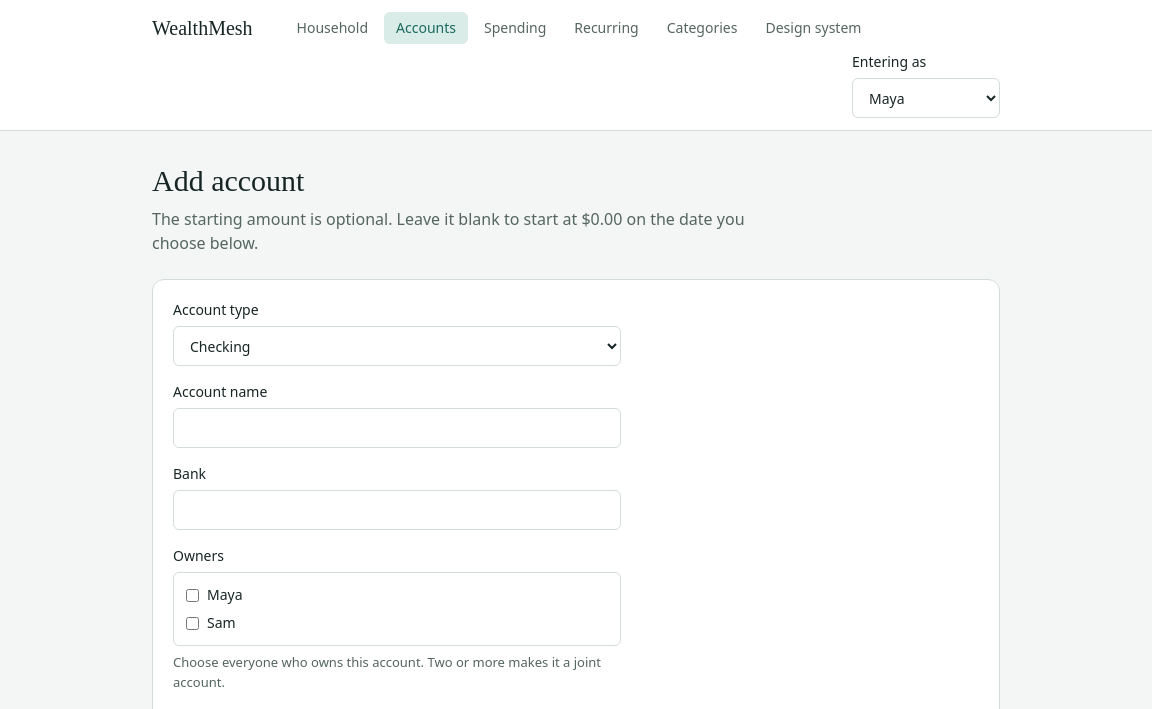
owner choices on the four investment types › Q-064 a setup form offers one owner for a 401(k) and several for a brokerage
Select "401(k)" in the dropdown labelled "Account type": (397,346) [173,326,621,366]
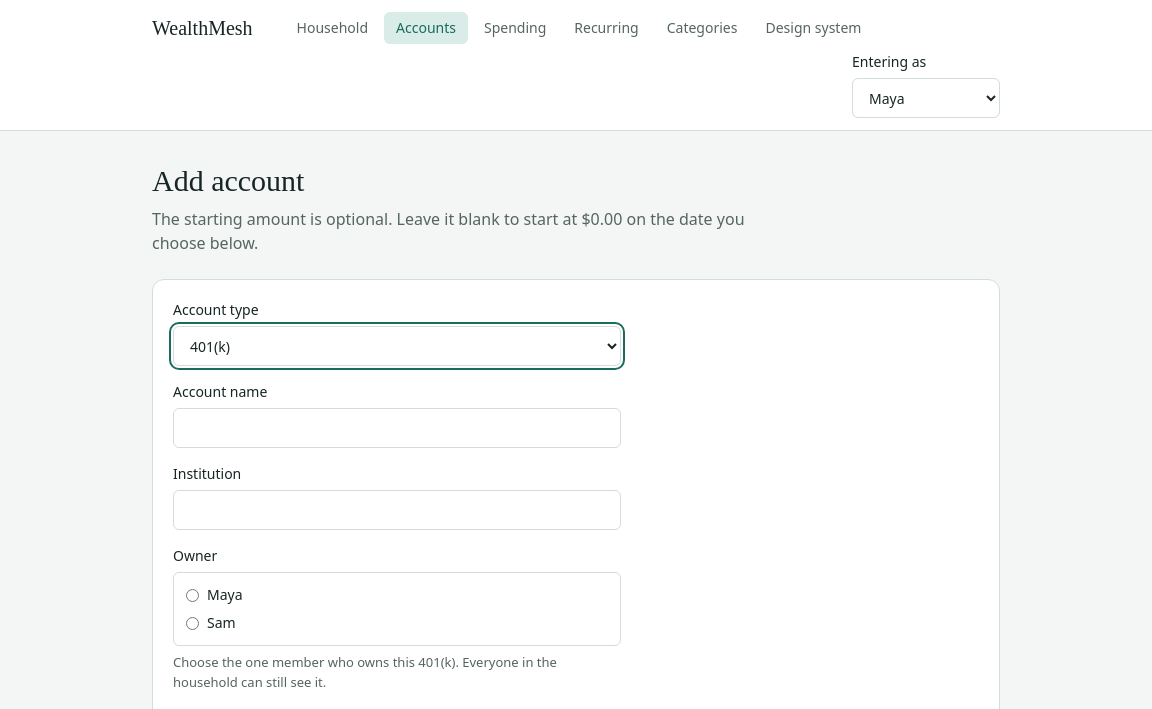
Expected: the element "Owner" is shown, [173,546,621,692]
Expected: the radio button labelled "Maya" is shown, [186,588,199,602]
Select "Brokerage" in the dropdown labelled "Account type": (397,346) [173,326,621,366]
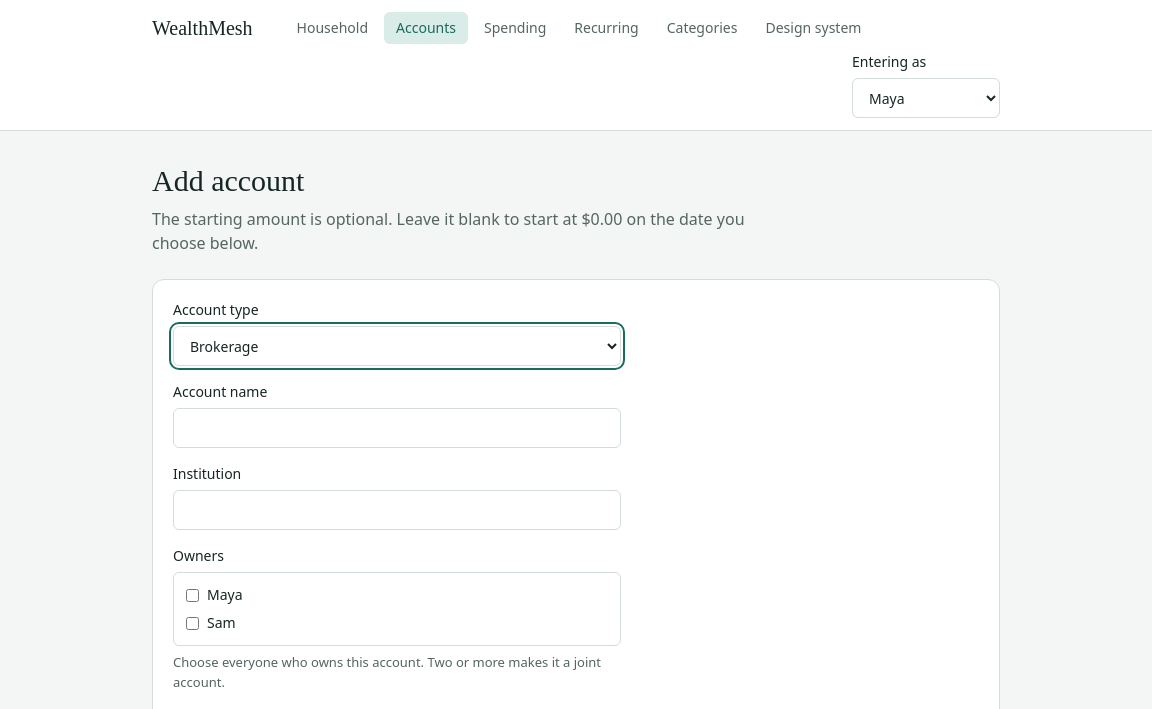
Expected: the number of checkboxes is 2, [186,588,199,602]; [186,616,199,630]
Expected: the text "Two or more makes it a joint account" is shown, [173,653,601,691]
